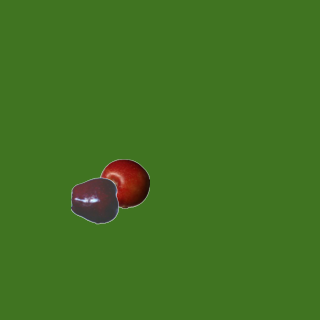Apple Braeburn: (99, 158, 149, 208)
Apple Red Delicious: (70, 175, 120, 225)
